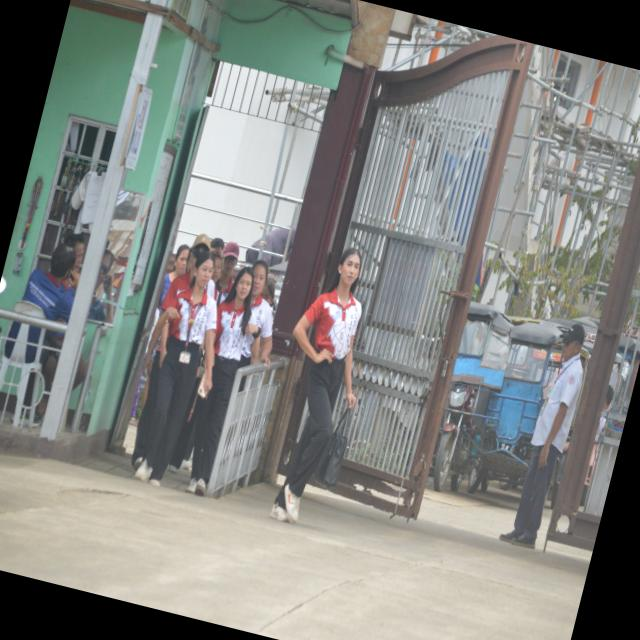person: (270, 248, 361, 522), (499, 323, 584, 548), (135, 252, 215, 485), (185, 267, 258, 496)
